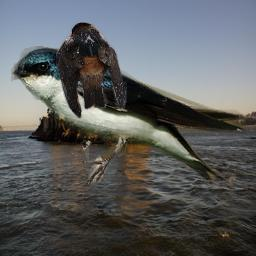Swallow: (11, 46, 256, 191), (56, 22, 127, 119)
